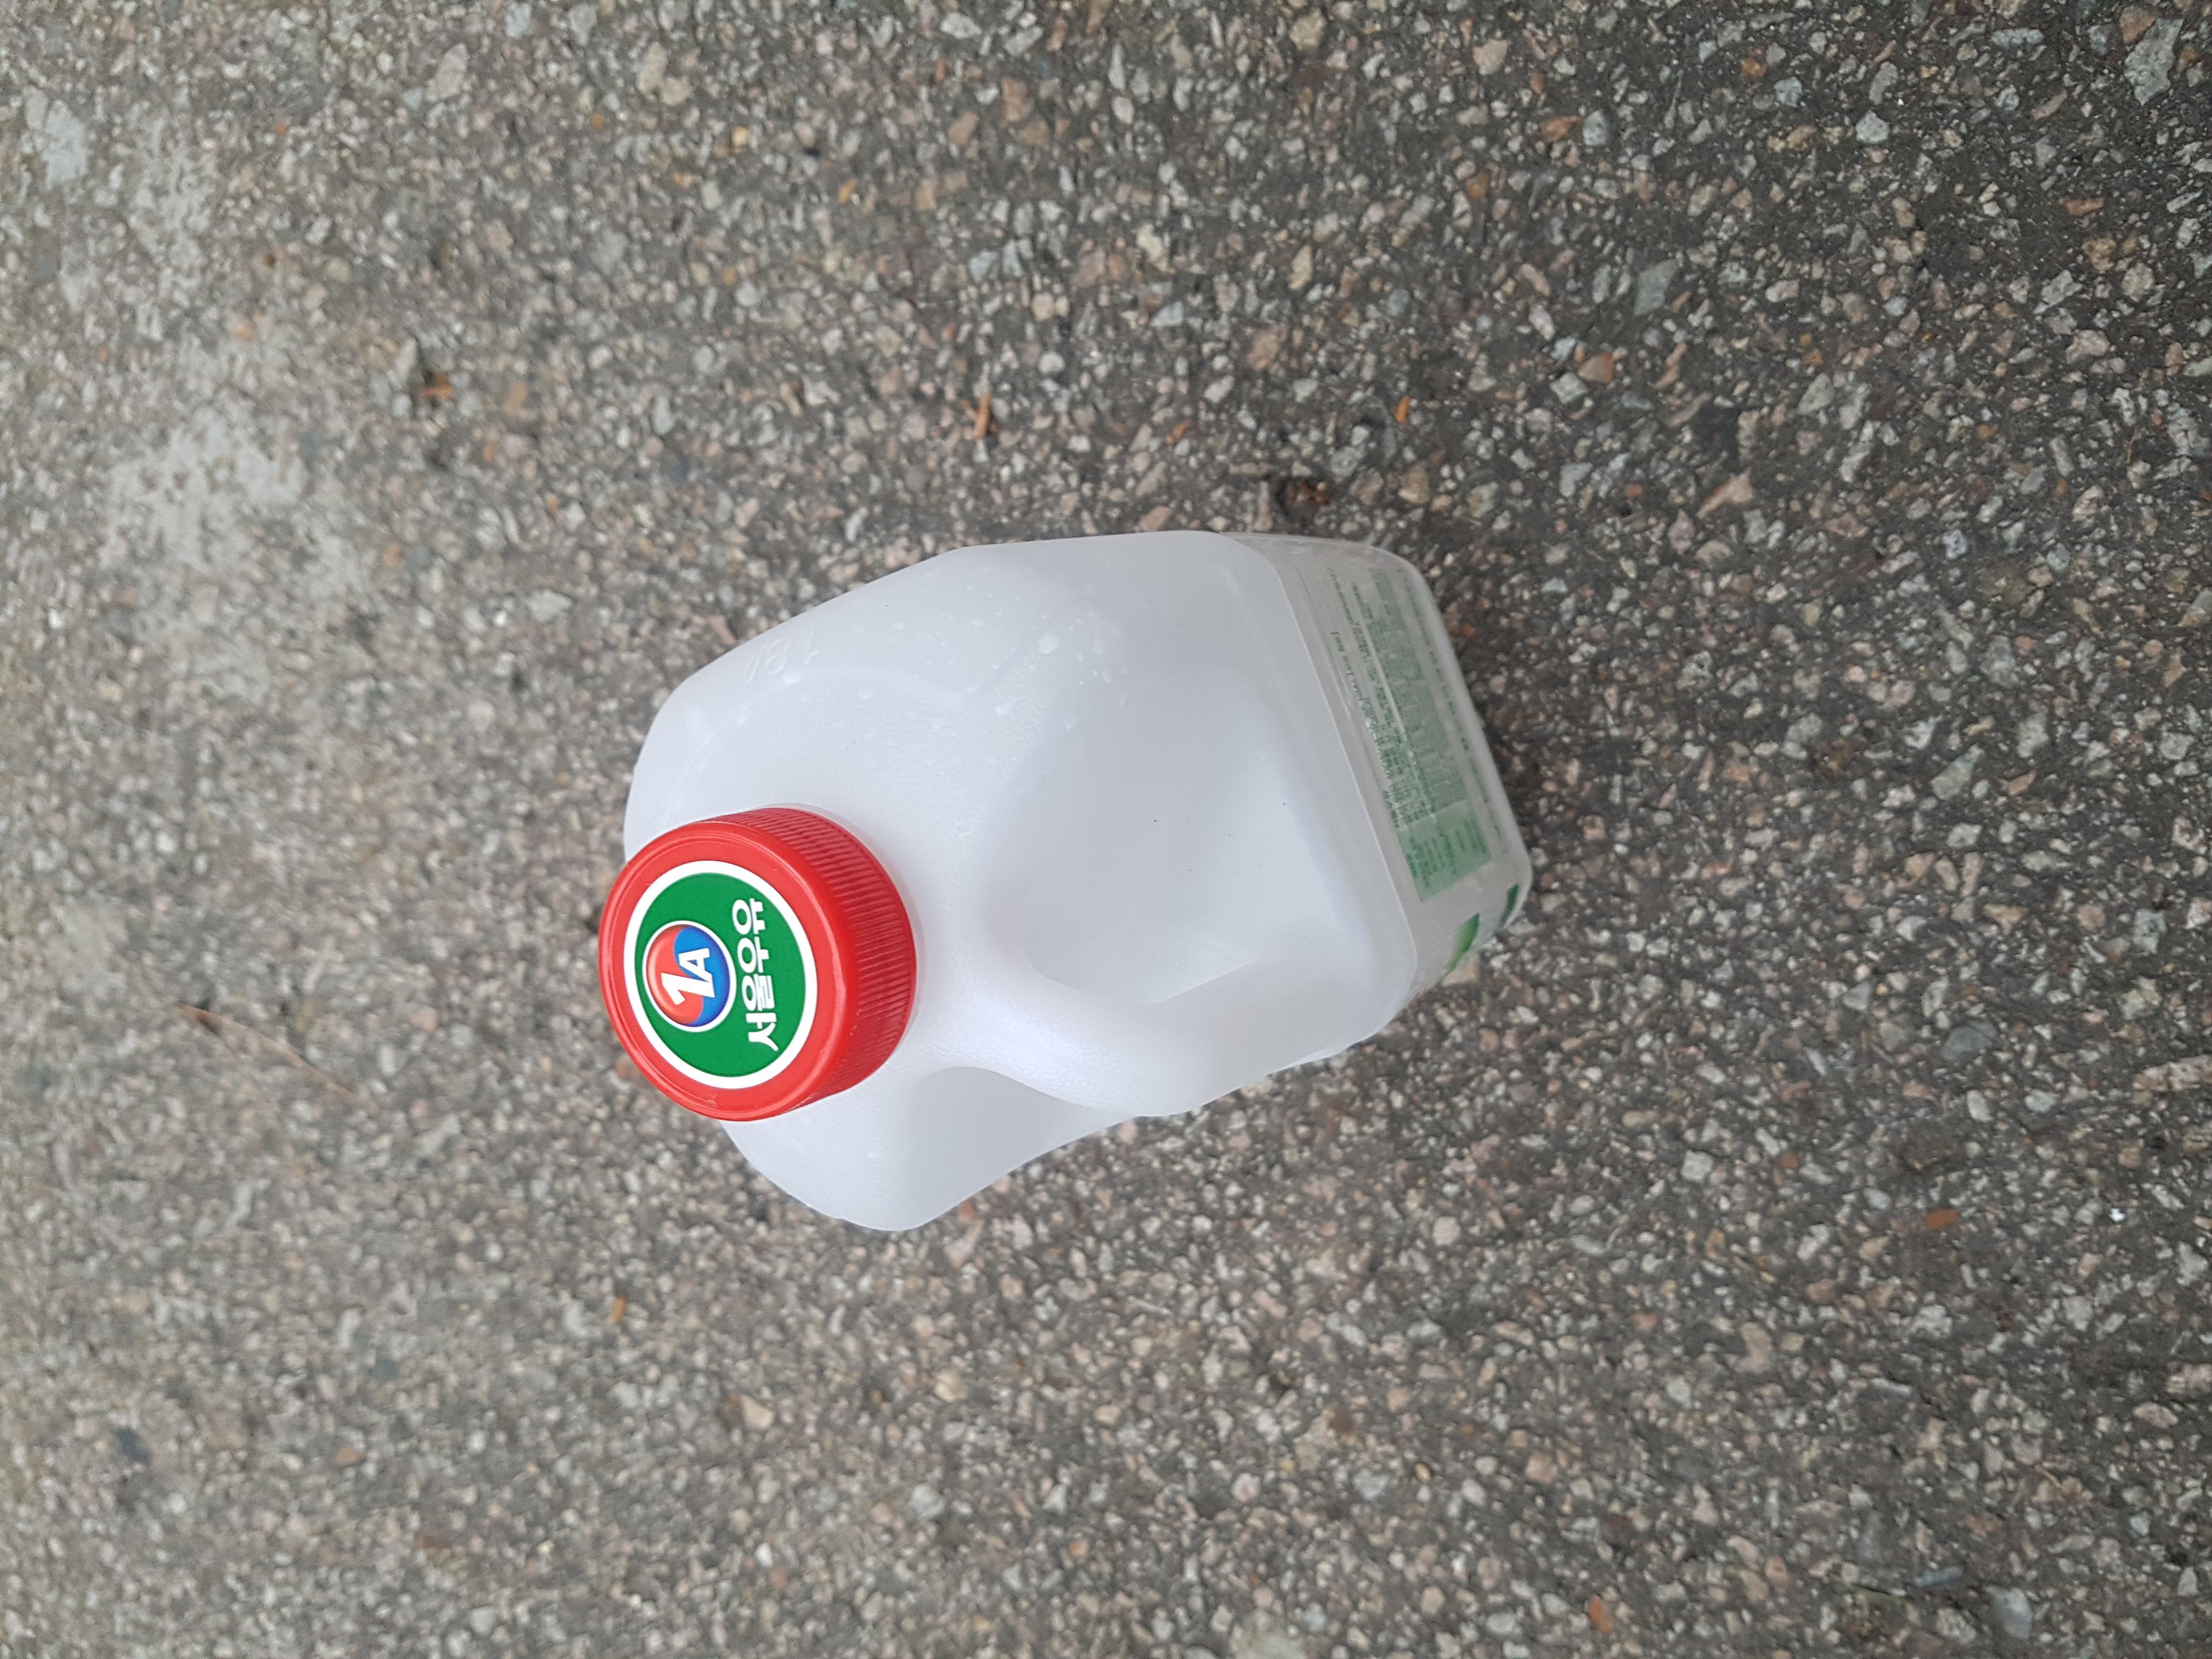bottle: (408, 324, 1583, 1006)
